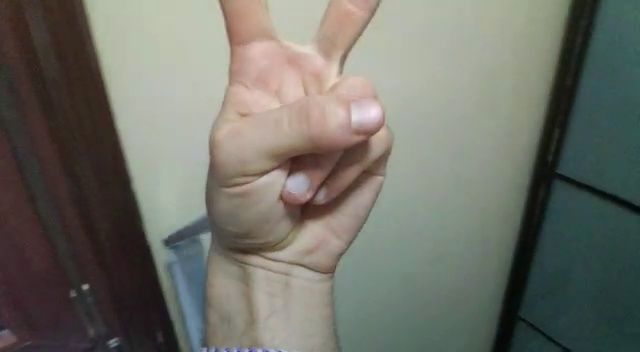Peace: (199, 1, 394, 258)
